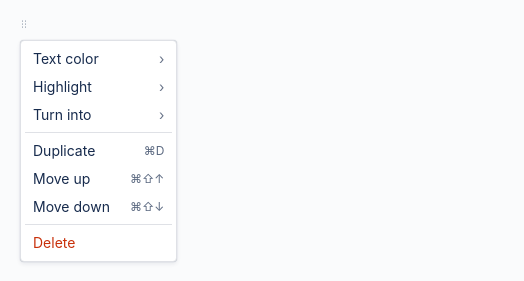
Test case: reopens the color submenu after a pick (close-on-pick does not latch it shut)
Step 1. Click the menu item "Text color ›" → (99, 59), box 25,45 -> 172,73
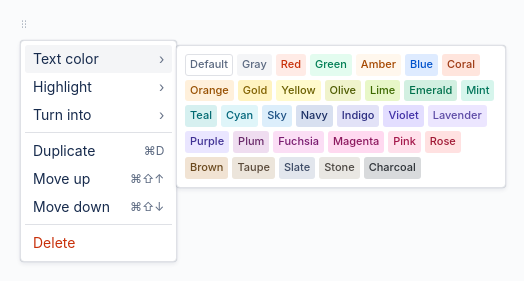
Step 2. Click the button "Green" → (331, 65), box 310,54 -> 352,76
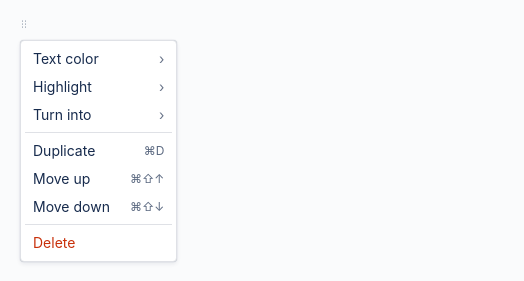
Result: the button "Green" is gone
Note: Reopen the same submenu → the palette is back.
Step 3. Click the menu item "Text color ›" → (99, 59), box 25,45 -> 172,73
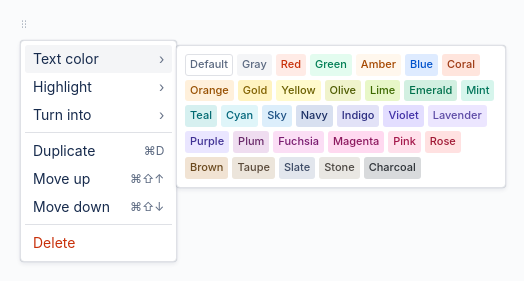
Result: the button "Green" is shown at 310,54 -> 352,76
